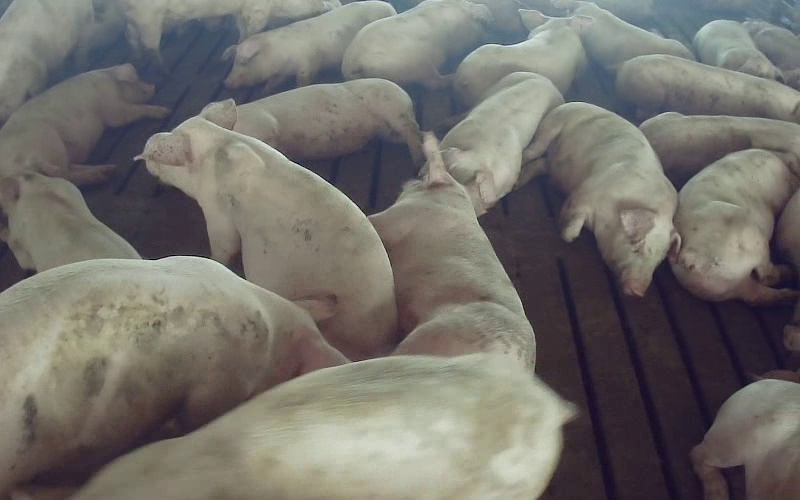pig: (0, 259, 346, 496), (77, 354, 574, 499), (140, 100, 397, 358), (370, 135, 534, 370), (517, 102, 679, 295), (0, 64, 169, 184), (670, 149, 799, 304), (441, 72, 563, 215), (222, 0, 395, 87), (454, 9, 591, 106), (342, 0, 490, 88), (617, 54, 799, 123), (640, 112, 799, 182), (553, 0, 694, 69), (123, 0, 243, 65), (693, 20, 782, 80), (236, 0, 340, 39), (743, 21, 799, 89)
